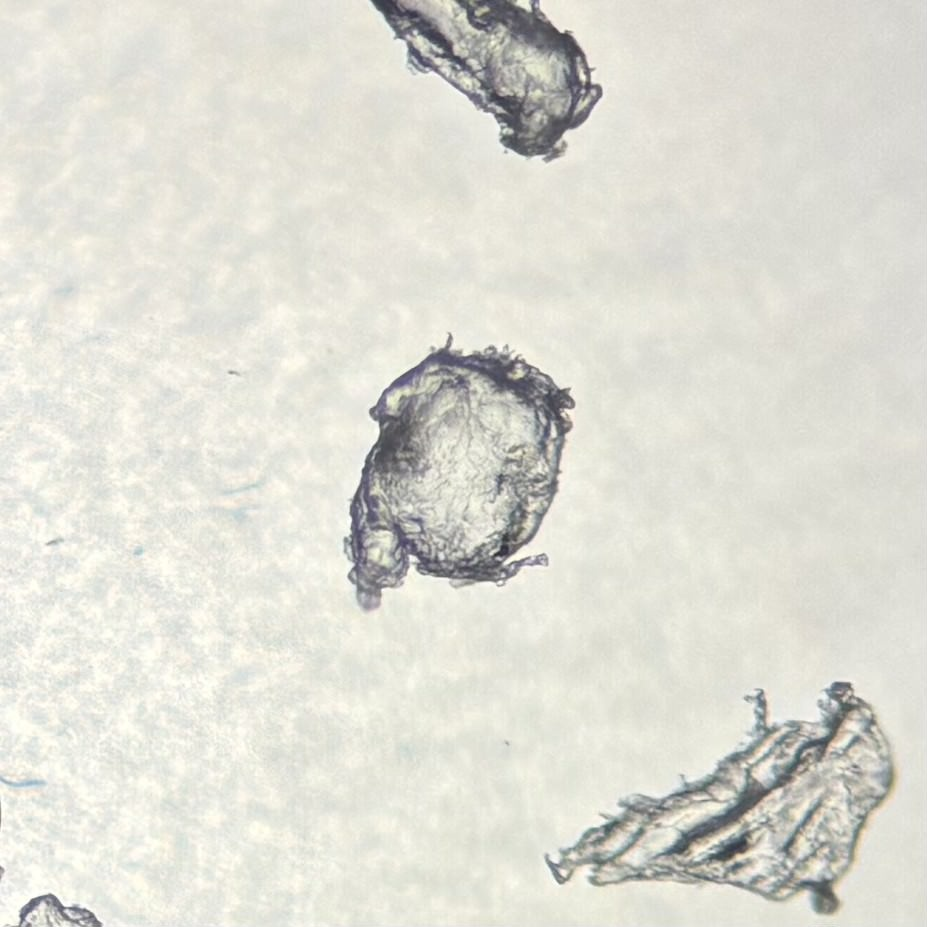microplastic: (542, 679, 898, 917), (345, 332, 576, 612), (366, 1, 604, 164), (15, 894, 110, 927)
